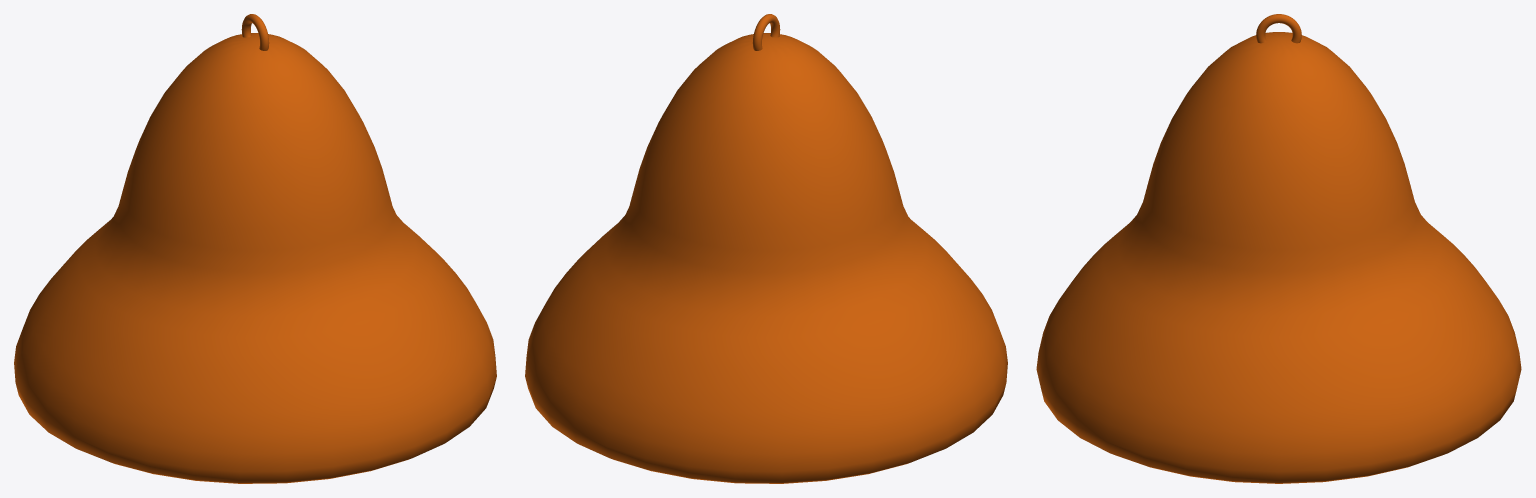
The model's file is Bell.fbx.
3 renders of one model, left to right at view 1: azimuth 30°, elevation 25°; view 2: azimuth 150°, elevation 25°; view 3: azimuth 270°, elevation 25°, orthographic.
Parts seen in each view (by area): view 1: Sphere; view 2: Sphere; view 3: Sphere.
Boxes of the visible parts, x1=… form: Sphere: x1=14, y1=14, x2=496, y2=483; Sphere: x1=525, y1=14, x2=1007, y2=483; Sphere: x1=1036, y1=14, x2=1521, y2=483.
Bounding box in the file's own units: 194 × 164 × 194.
